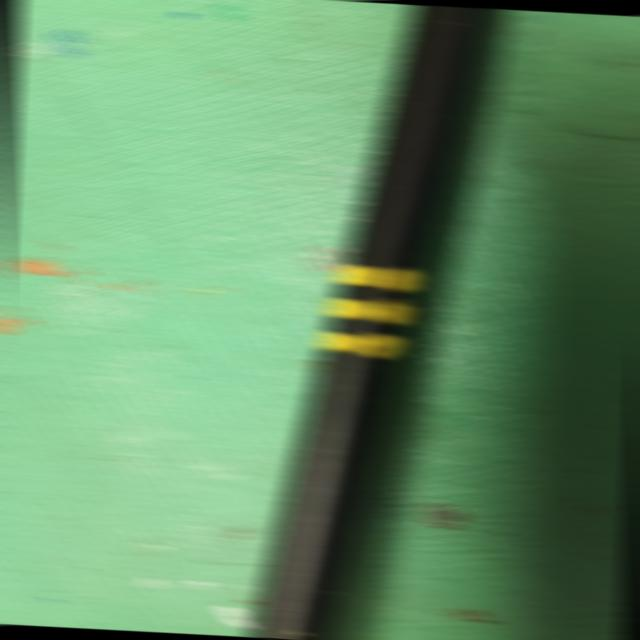yellow: (316, 261, 424, 358)
